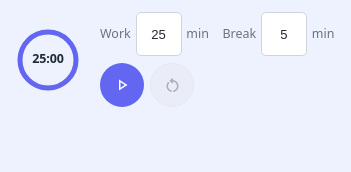
Test: PomodoroTimer › work phase completion › shows success toast after session is saved
What coordinates should you click on to do the following:
click the button named "Start work timer"
I would click on:
 (122, 85)
Its box is [100,63,144,107].
Wait 1500200 ms
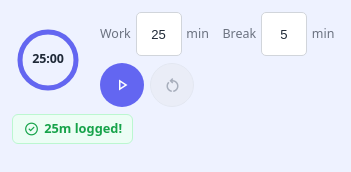
Check: the text "25m logged!" is shown, box [12,114,134,144]
